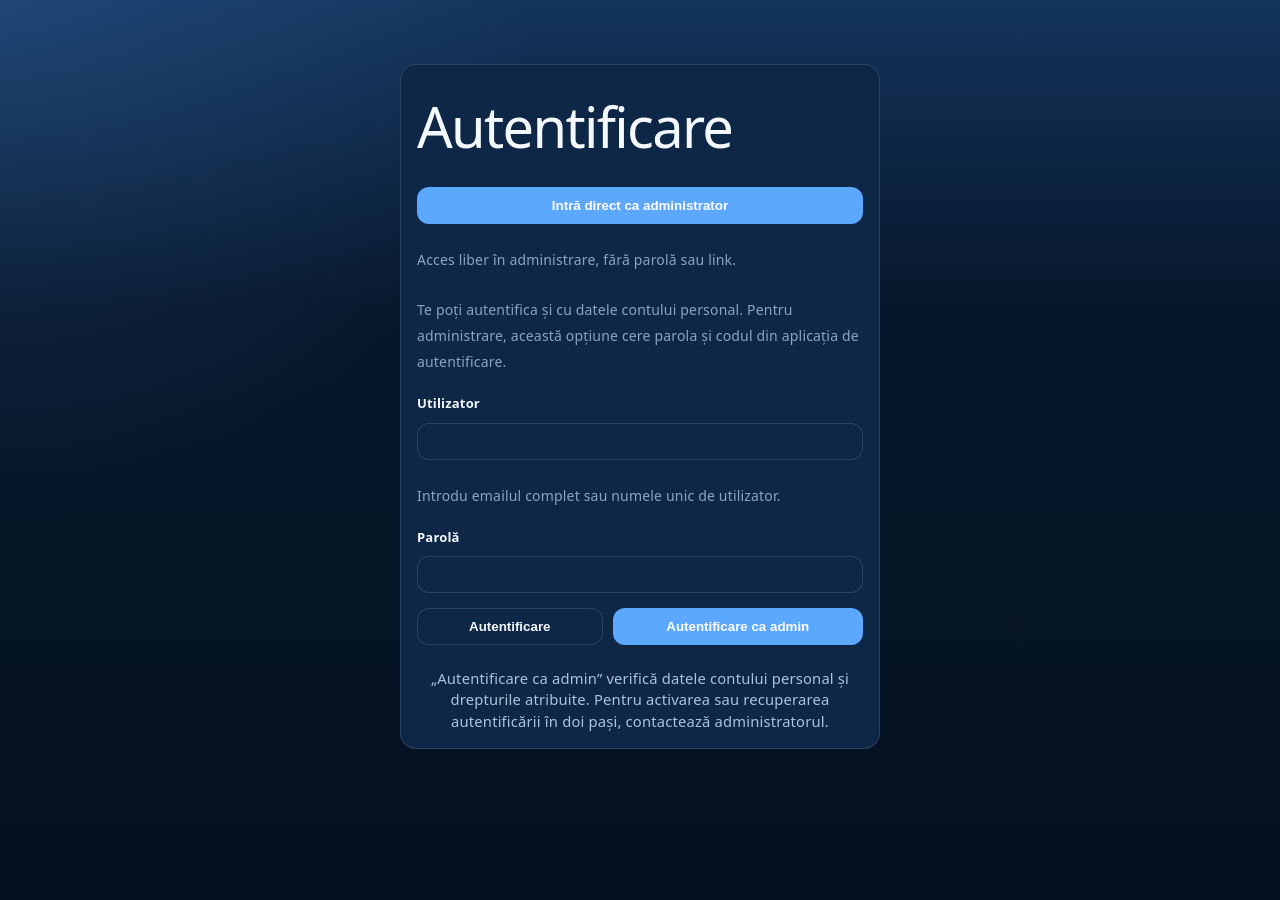
it: SigninPage › rejects admin mode for a non-administrative account and clears the session
This screenshot has width=1280, height=900.
In the field labelled "Utilizator": (640, 441) [417,423,863,460], type "sustinator"
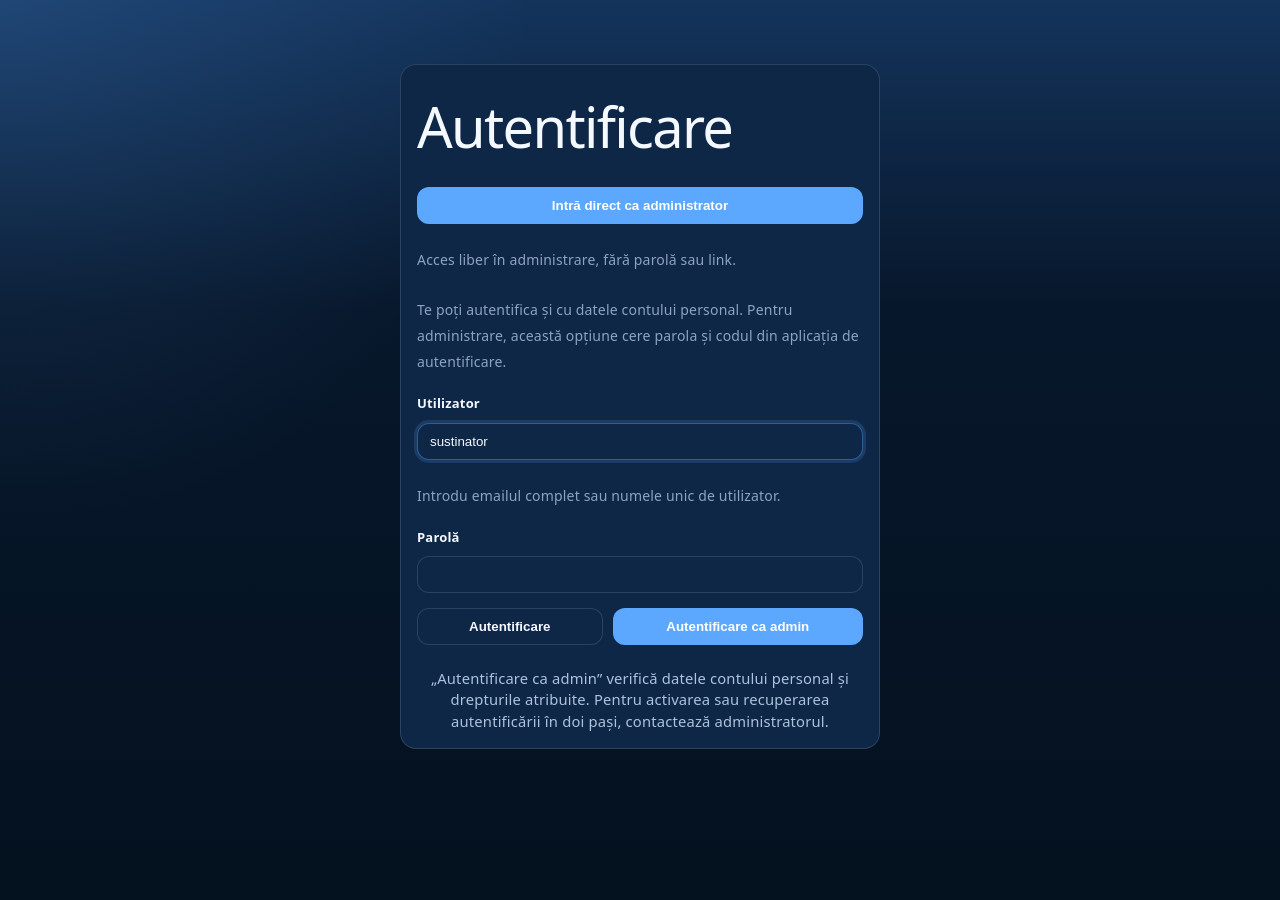
In the password field labelled "Parolă": (640, 574) [417,556,863,593], type "ParolaSigura#2026"
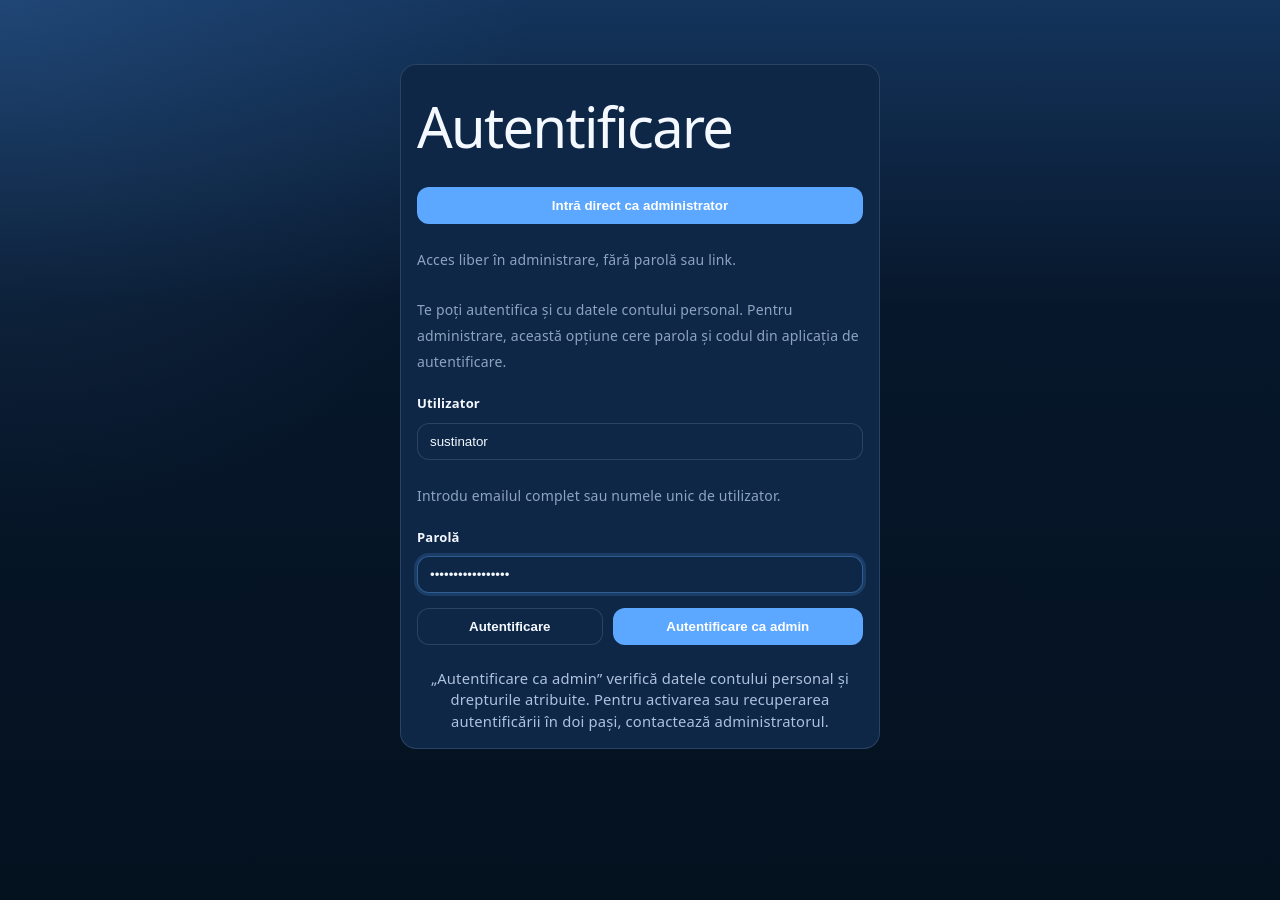
Click the button "Autentificare ca admin": (738, 626) [612,608,863,645]
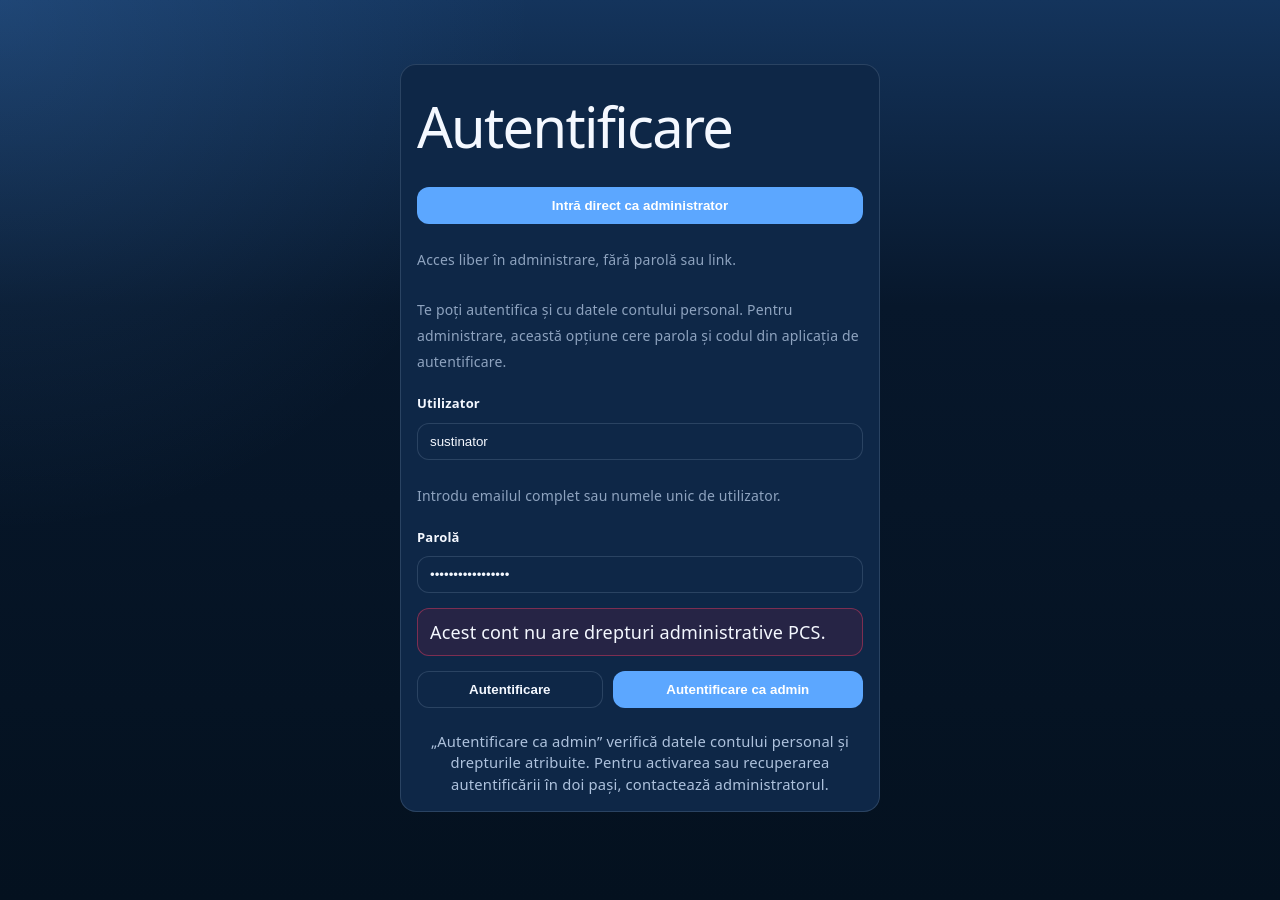
expect the message reads "Acest cont nu are drepturi administrative PCS.": met, box [430,620,826,644]
